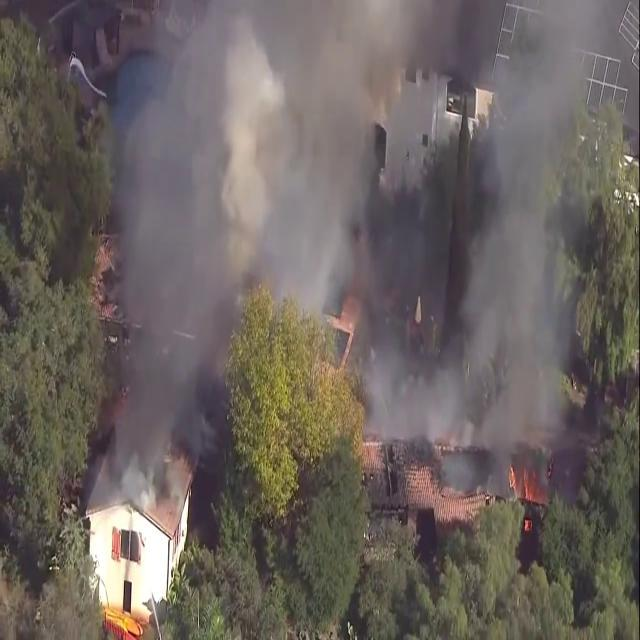Smoke: (87, 1, 595, 471)
